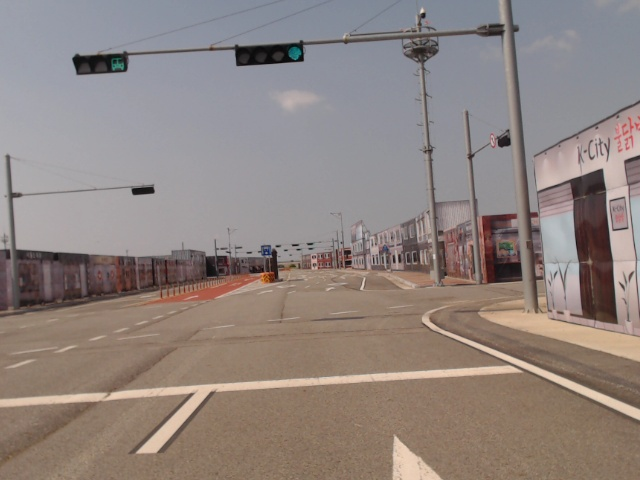straight_green_4: (236, 43, 303, 66)
